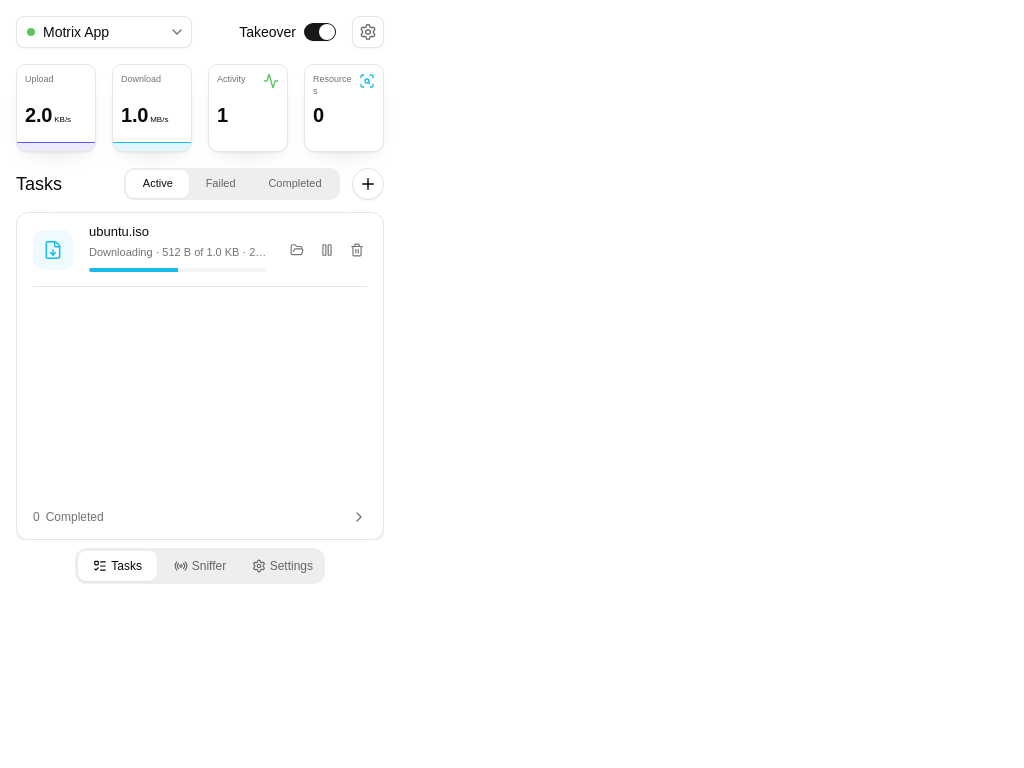
Popup App › creates a manual task from the compact toolbar and refreshes the active list
Expected: the text "ubuntu.iso" is shown, [89,224,149,239]
Click the button named "New task".
click(368, 184)  # box [352,168,384,200]
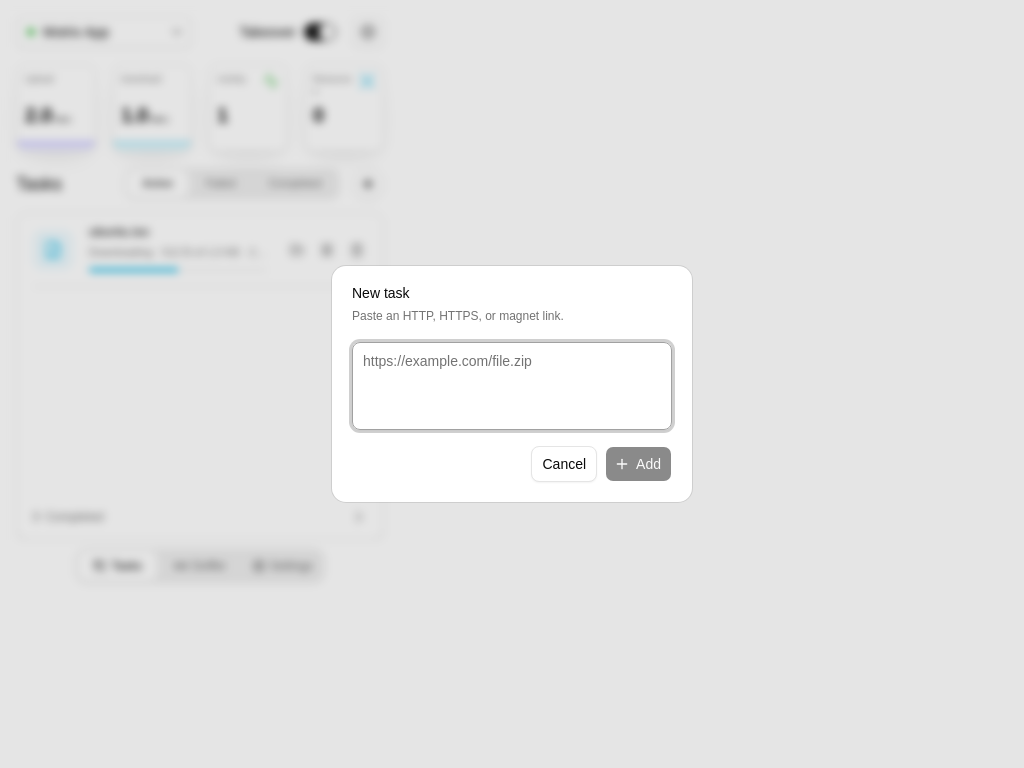
Type "https://example.com/new-file.zip" into the text box named "Download address".
click(512, 386); type("https://example.com/new-file.zip")  # box [352,342,672,430]
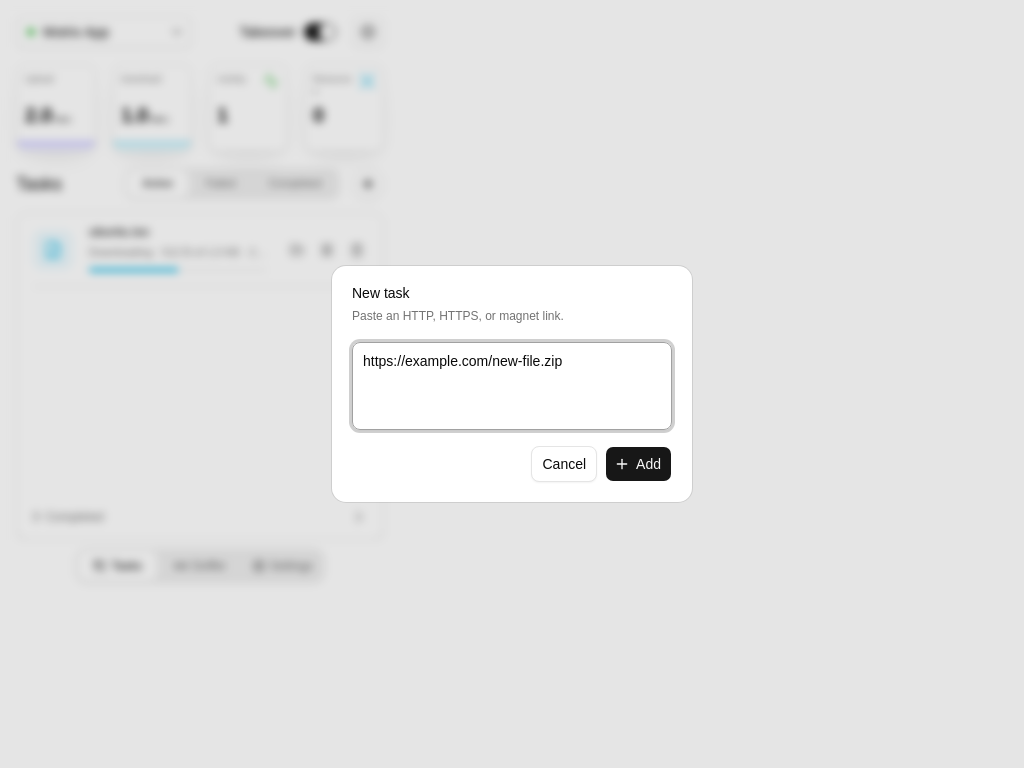
Click the button "Add".
click(639, 464)  # box [605,446,672,482]
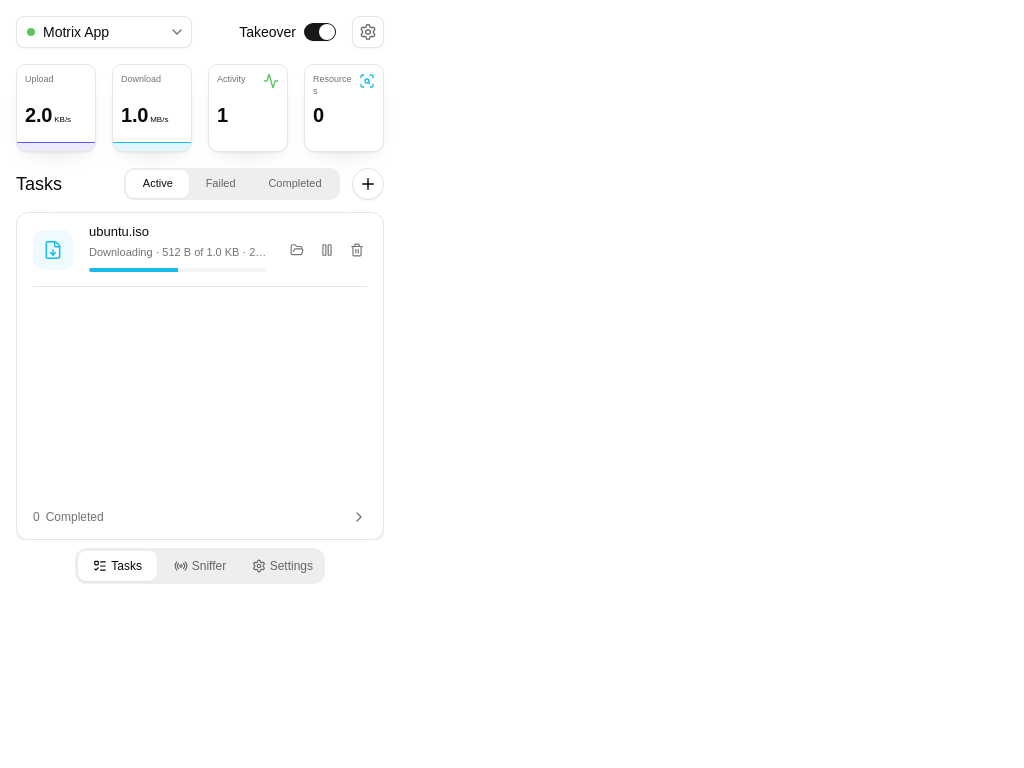
Now the heading "New task" is gone
